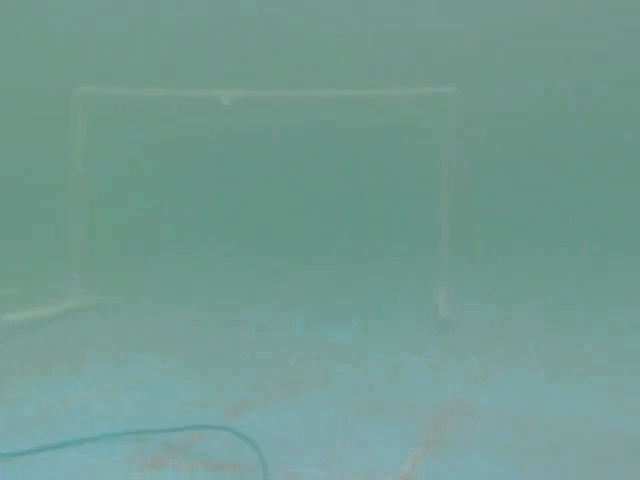gate: (15, 64, 467, 343)
